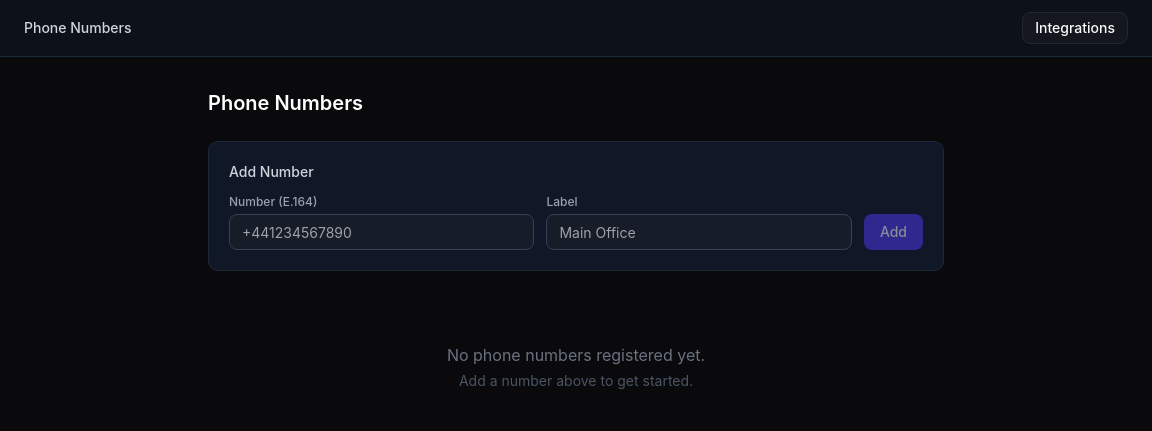
Test: PhoneNumbers page › adds a phone number via the form
Type "+44999" into the field with placeholder "+441234567890" at (382, 232), box [229,214,534,250]
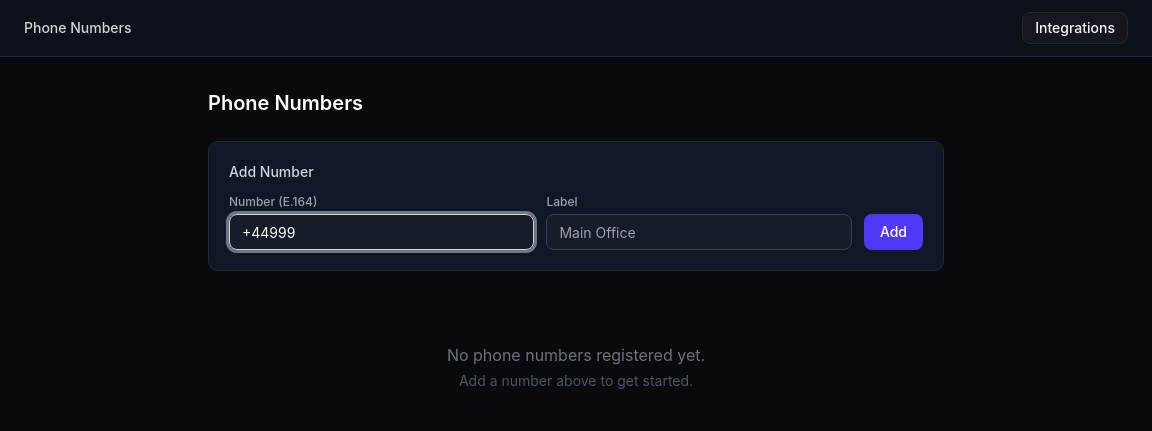
Type "New Line" into the field with placeholder "Main Office" at (699, 232), box [546,214,852,250]
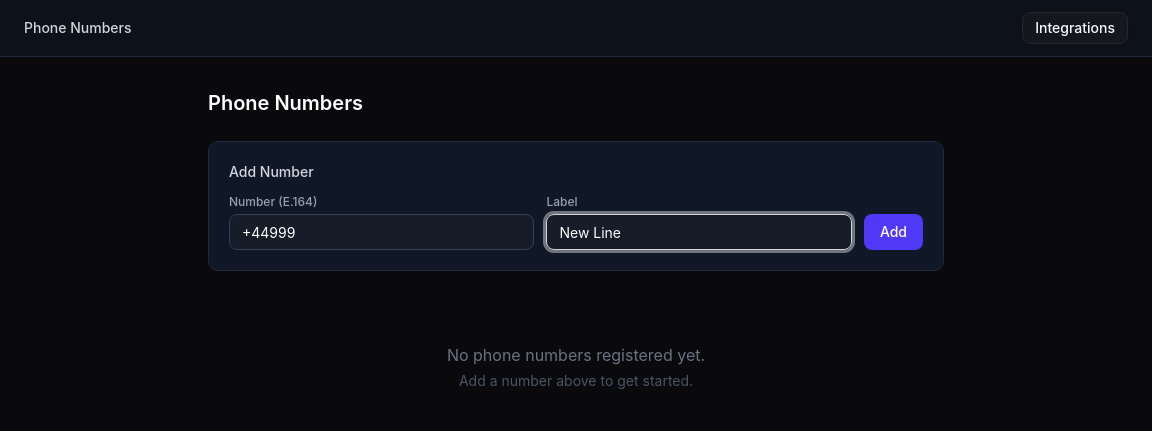
Click the button "Add" at (893, 232), box [864,214,923,250]
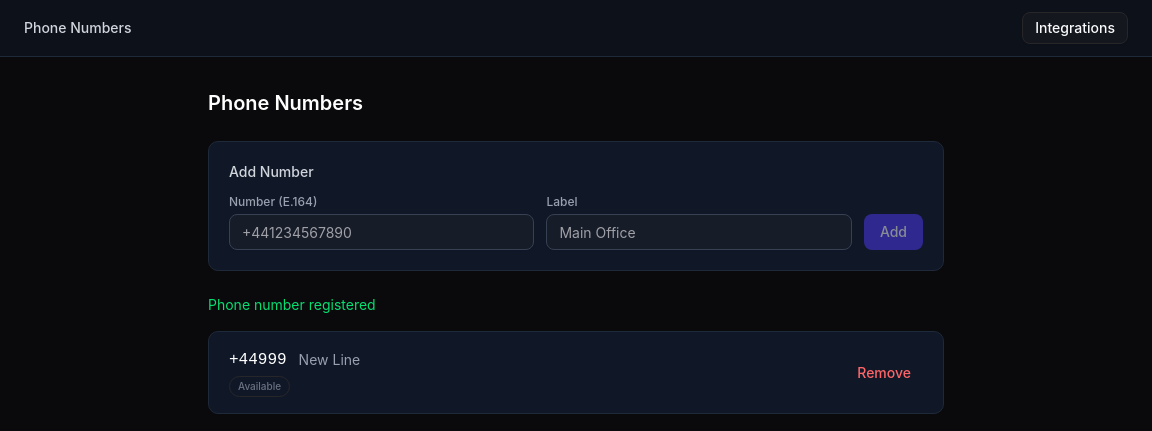
Now the text "+44999" is shown, box [229,348,287,372]
